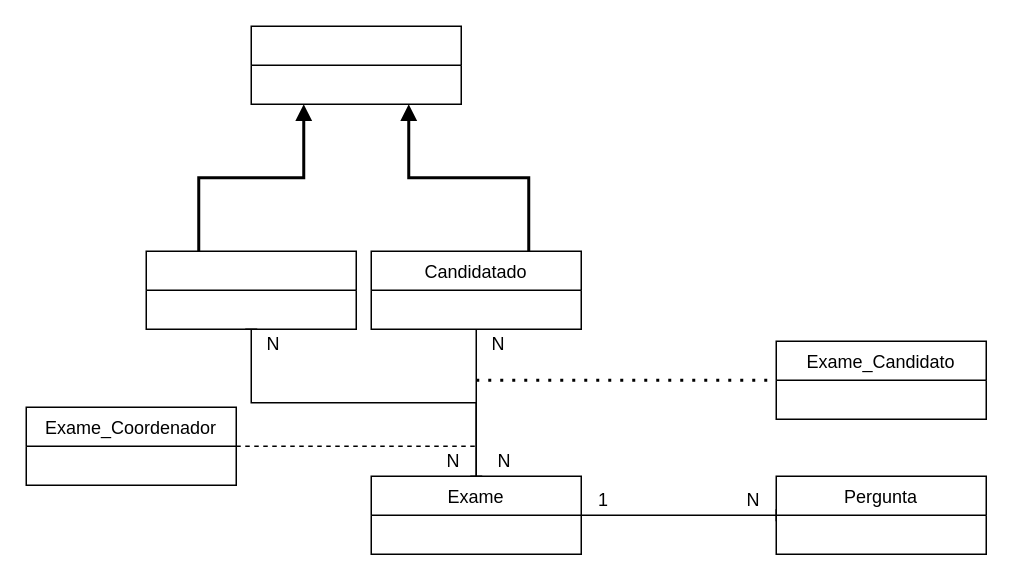
This 1013x581 diagram has some shape labels left out. The shapes that lost their labels are listed below. From the top down, each one's centre as x and y in pixels, then its label:
pixel 355 64: Pessoa
pixel 250 289: Coordenador
